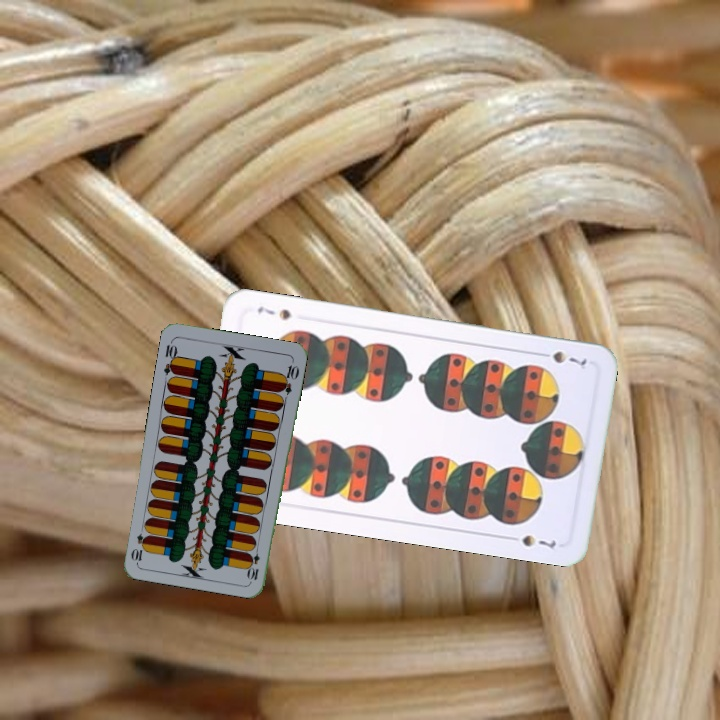E10: (160, 337, 180, 377), (245, 542, 262, 582)
S7: (533, 347, 591, 372)
